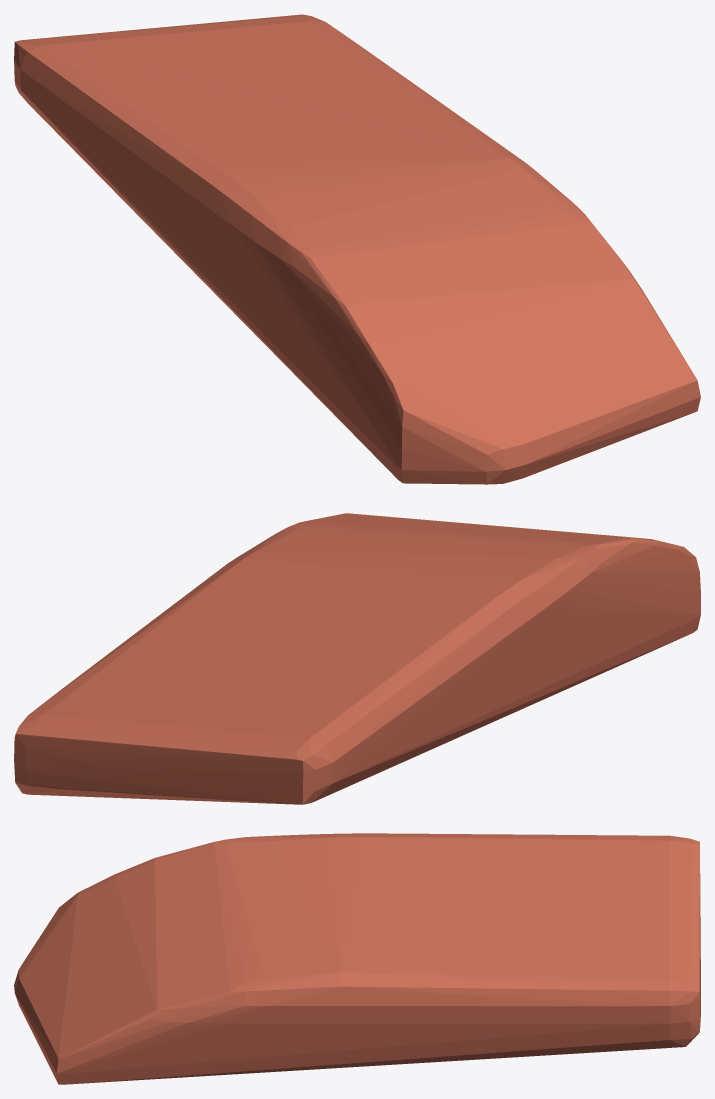
File: right-shoulder-yaw-0_part_9.obj
3 renders of one model, top to bottom at view 1: azimuth 30°, elevation 25°; view 2: azimuth 150°, elevation 25°; view 3: azimuth 270°, elevation 25°, orthographic. The views are drawn at different scales.
Size of the model in its own units: 0.0198 by 0.0101 by 0.0458.
